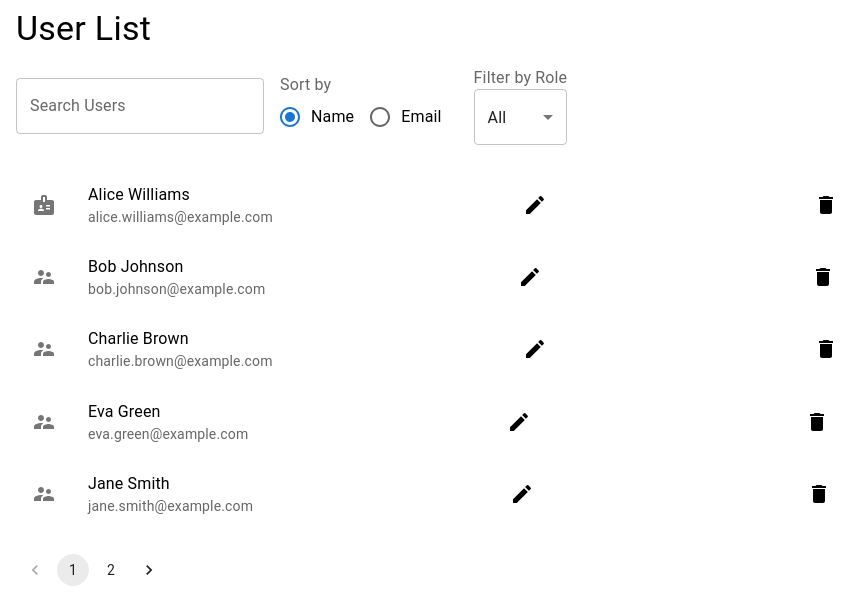
Test: UserEmployeeListSchwer Component › filters users by search term
Search for a specific user
Type "John Doe" into the field labelled "Search Users" at (140, 106), box [16,78,264,134]
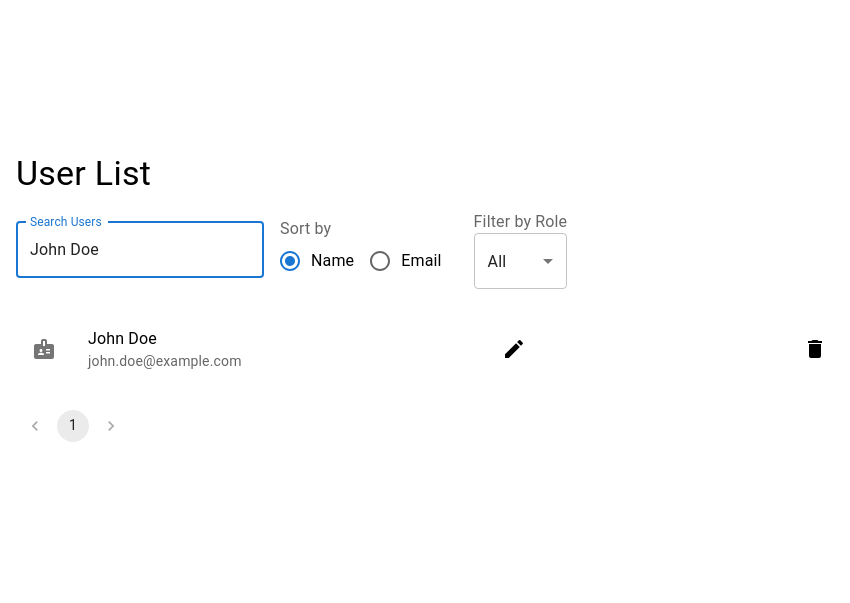
Expected: the text "John Doe" is shown, [88,330,157,348]
Expected: the text "Jane Smith" is gone
